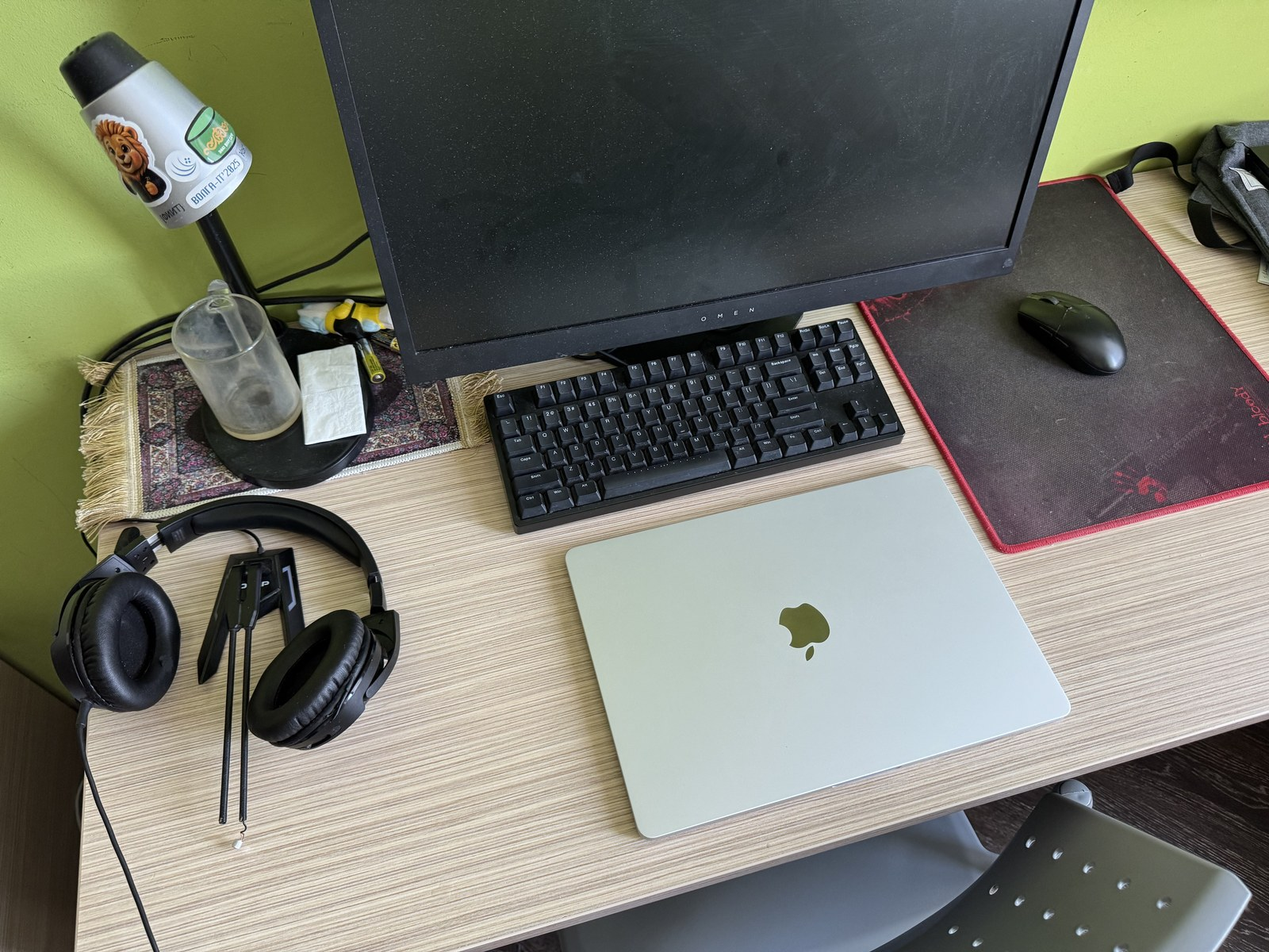laptop: (563, 464, 1072, 840)
